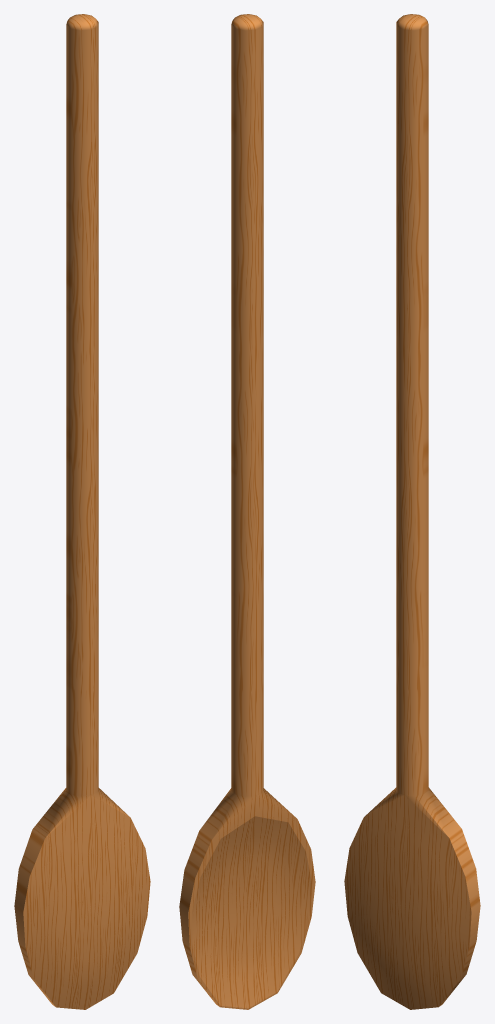
The model's file is Baking Mini Game Wooden Spoon.fbx.
3 views of the same model, side by side, from view 1: azimuth 30°, elevation 25°; view 2: azimuth 210°, elevation 25°; view 3: azimuth 330°, elevation 25° (orthographic).
Parts seen in each view (by area): view 1: pCylinder54; view 2: pCylinder54; view 3: pCylinder54.
Part boxes in pixels (<box>): pCylinder54: <box>14,14,150,1009</box>; pCylinder54: <box>179,14,315,1009</box>; pCylinder54: <box>344,14,480,1009</box>.
Size of the model in its own units: 2.18 by 16.21 by 0.5462.
1 material, 1 textured.
